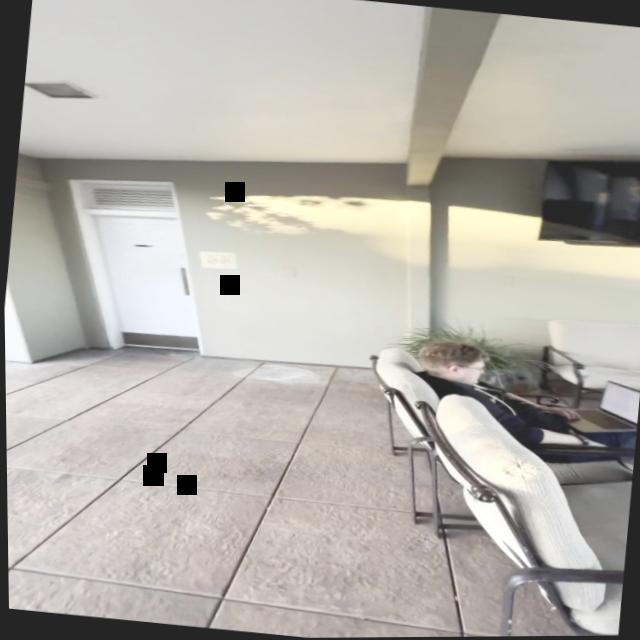NO-Mask: (455, 356, 484, 385)
